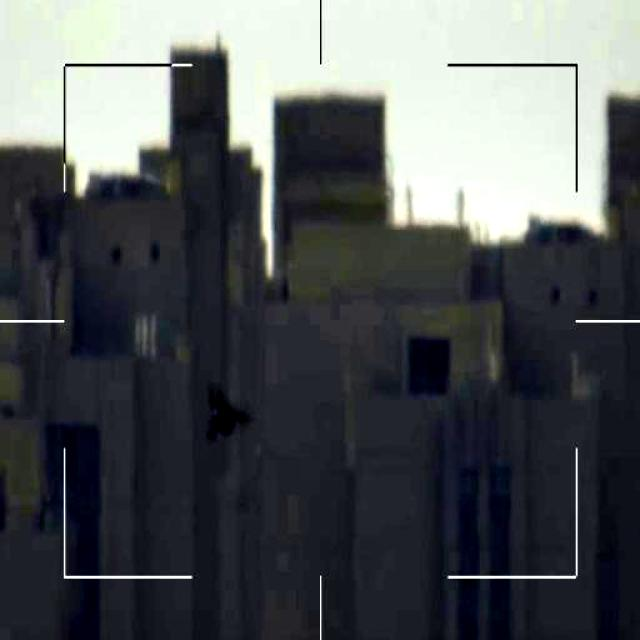bird: (196, 375, 249, 446)
